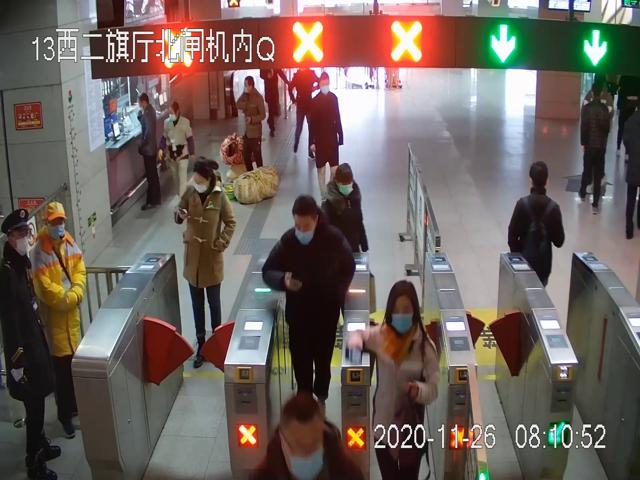person: (261, 194, 355, 411), (1, 208, 61, 480), (367, 281, 439, 480), (28, 201, 87, 440), (172, 156, 236, 370), (508, 162, 565, 294), (310, 72, 345, 203), (136, 90, 164, 212), (236, 76, 266, 176)
